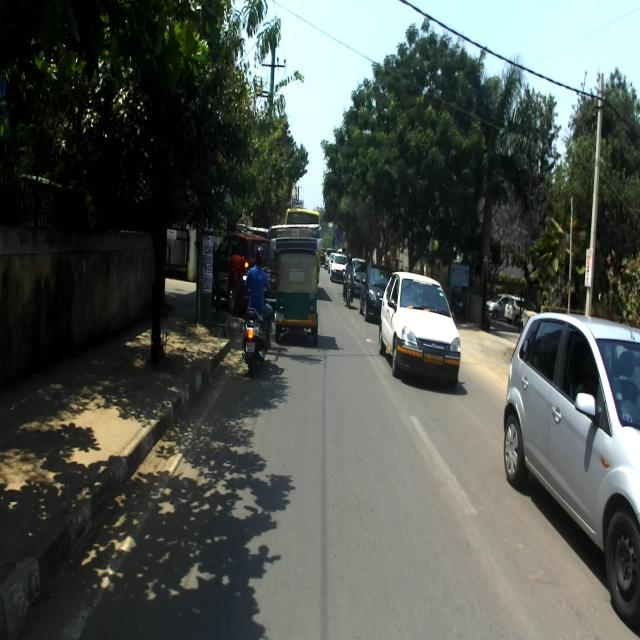autorickshaw: (269, 224, 322, 346)
bus: (283, 209, 320, 225)
car: (502, 286, 640, 624), (379, 270, 461, 388), (212, 222, 277, 314), (358, 266, 393, 323), (347, 256, 367, 294)
motorcycle: (341, 269, 357, 308)
scooter: (241, 274, 276, 376)
